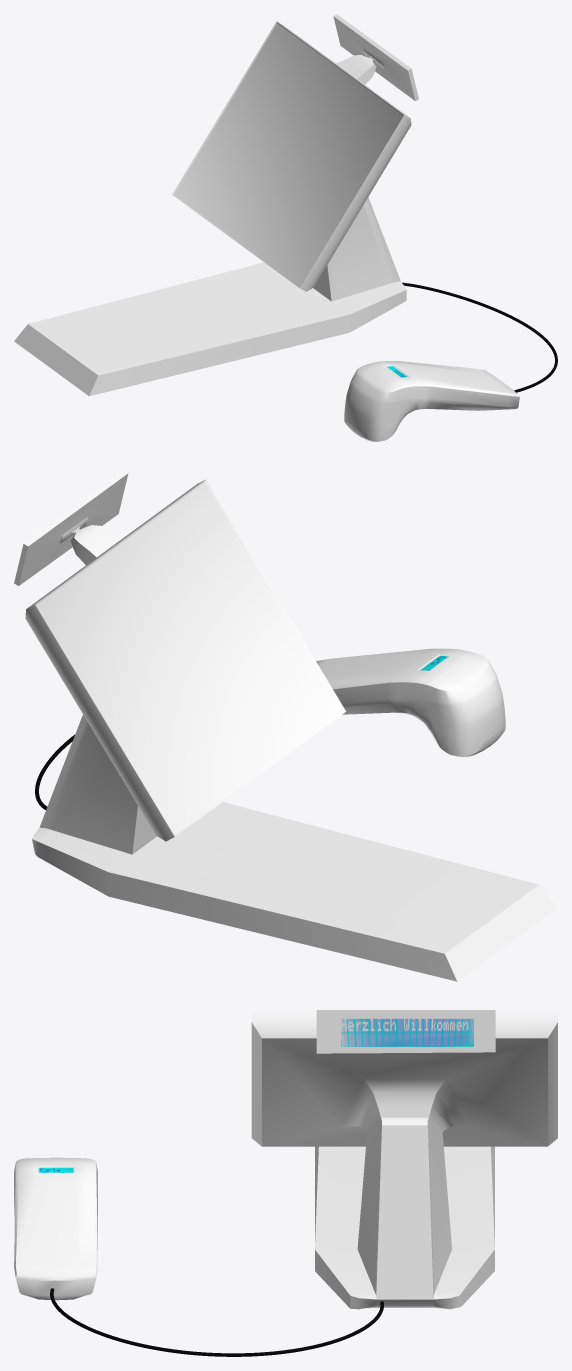
Rendered from Kasse.fbx.
3 views of the same model, one above another, from view 1: azimuth 30°, elevation 25°; view 2: azimuth 150°, elevation 25°; view 3: azimuth 270°, elevation 25° (orthographic). The views are drawn at different scales.
Parts seen in each view (by area): view 1: Kasse, Karten_Scanner, Kabel; view 2: Kasse, Karten_Scanner; view 3: Kasse, Karten_Scanner, Kabel.
Boxes of the visible parts, x1,y1,x2,y2 form: Kasse: [14, 14, 418, 396]; Karten_Scanner: [344, 361, 519, 441]; Kabel: [402, 282, 557, 392]; Kasse: [14, 470, 557, 981]; Karten_Scanner: [316, 648, 505, 756]; Kasse: [251, 1010, 557, 1309]; Karten_Scanner: [14, 1157, 97, 1300]; Kabel: [50, 1288, 383, 1356].
Bounding box in the file's own units: 310 × 184 × 302.
3 materials, 2 textured.
